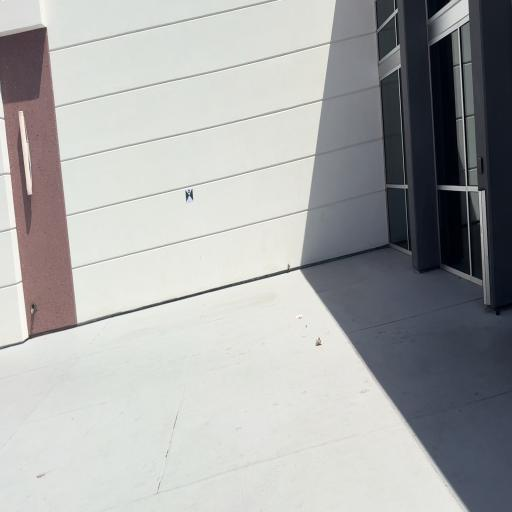target0: (185, 186, 193, 204)
